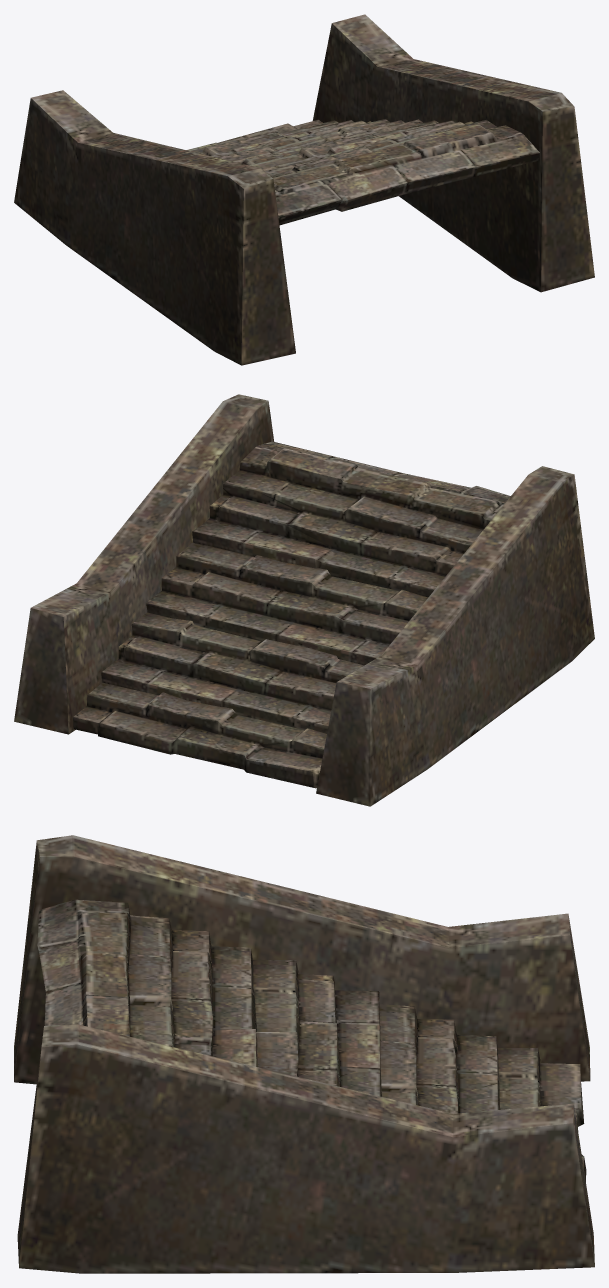
File: miniboss_01-1.fbx
The picture shows the model from 3 angles, top to bottom: view 1: azimuth 30°, elevation 25°; view 2: azimuth 150°, elevation 25°; view 3: azimuth 270°, elevation 25°; orthographic projection. The views are drawn at different scales.
Visible parts, largest first — view 1: Object01; view 2: Object01; view 3: Object01.
Part boxes in pixels (x1=…): Object01: x1=14, y1=14, x2=594, y2=365; Object01: x1=14, y1=394, x2=594, y2=806; Object01: x1=14, y1=835, x2=594, y2=1273.
Bounding box in the file's own units: 11.69 × 5.4 × 12.76.
